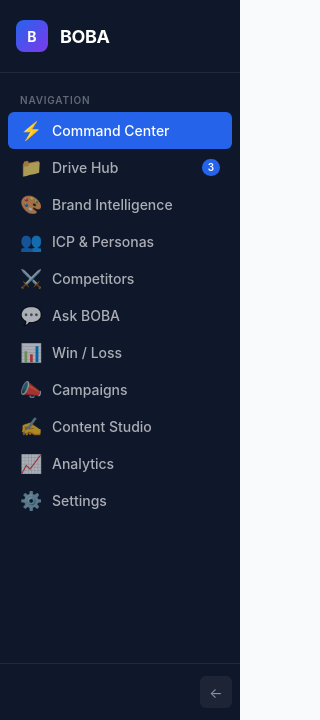
Sidebar — collapse behavior › clicking expand changes button aria-label back to "Collapse sidebar"
Step 1. Click the button named "collapse sidebar" → [216, 692], box [200,676,232,708]
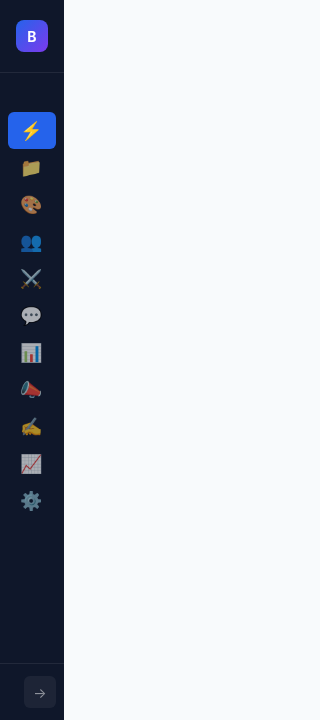
Step 2. Click the button named "expand sidebar" → [40, 692], box [24,676,56,708]
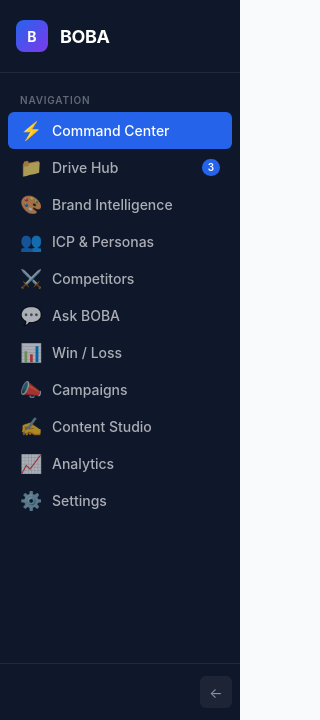
Now the button named "collapse sidebar" is shown, box [200,676,232,708]
